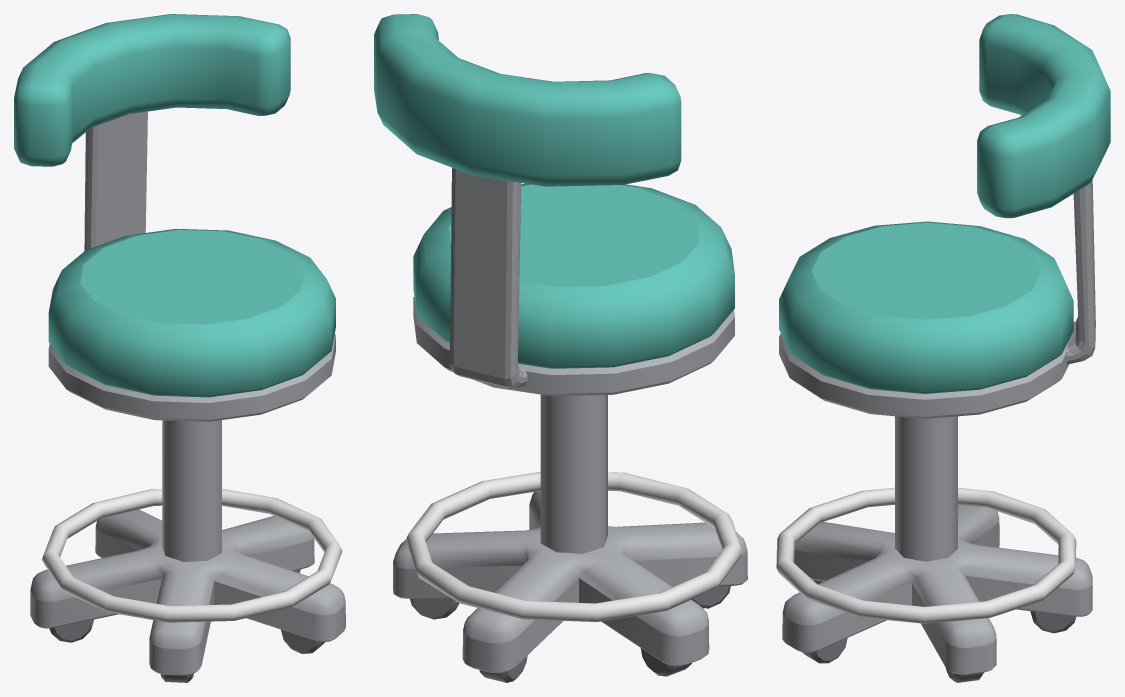
Rendered from Chair.005.fbx.
3 views of the same model, side by side, from view 1: azimuth 30°, elevation 25°; view 2: azimuth 150°, elevation 25°; view 3: azimuth 270°, elevation 25° (orthographic). The views are drawn at different scales.
Visible parts, largest first — view 1: Chair.005; view 2: Chair.005; view 3: Chair.005.
Boxes of the visible parts, x1,y1,x2,y2 form: Chair.005: (14, 14, 345, 682); Chair.005: (374, 14, 747, 682); Chair.005: (776, 14, 1110, 682).
Size of the model in its own units: 0.4711 by 0.8932 by 0.4876.
